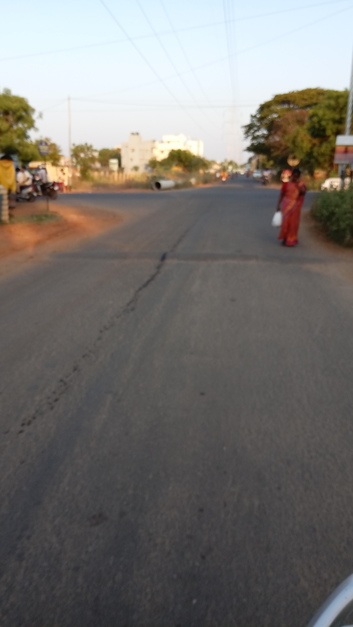bump: (23, 248, 353, 264)
